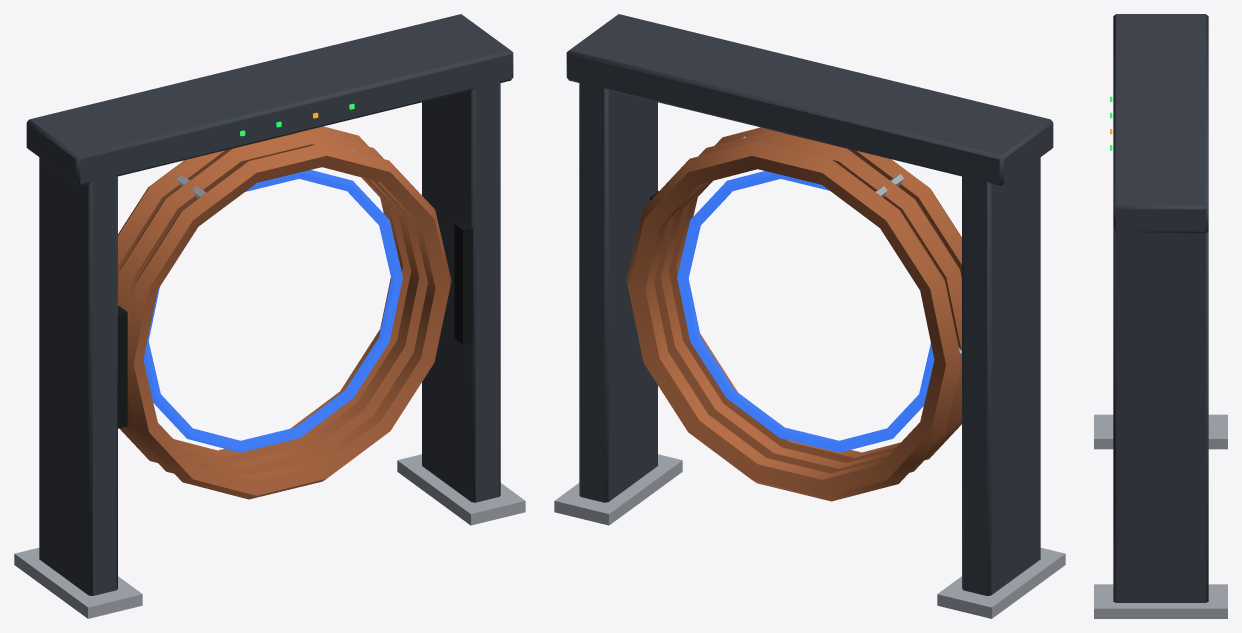
Rendered from coil_coil_gantry.glb.
3 renders of one model, left to right at view 1: azimuth 30°, elevation 25°; view 2: azimuth 150°, elevation 25°; view 3: azimuth 270°, elevation 25°, orthographic. The views are drawn at different scales.
Parts seen in each view (by area): view 1: coil_coil_gantry; view 2: coil_coil_gantry; view 3: coil_coil_gantry.
Boxes of the visible parts, x1=… form: coil_coil_gantry: x1=14, y1=14, x2=525, y2=618; coil_coil_gantry: x1=554, y1=14, x2=1065, y2=618; coil_coil_gantry: x1=1094, y1=14, x2=1227, y2=618.
Bounding box in the file's own units: 2.4 × 2.38 × 0.7.
